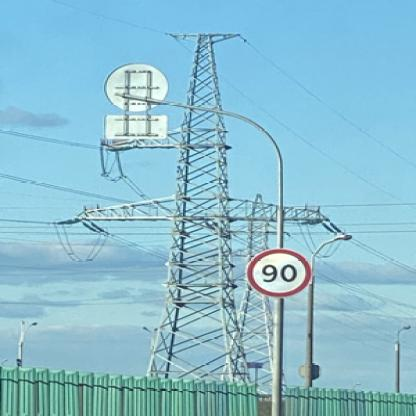speedlimit: (243, 246, 309, 296)
